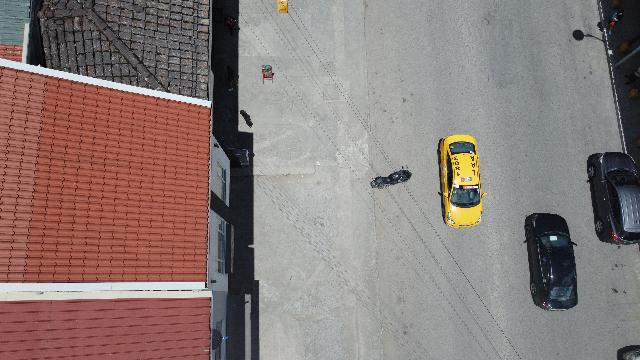Vehiculo: (524, 212, 578, 312), (586, 151, 640, 245), (438, 134, 487, 228)
